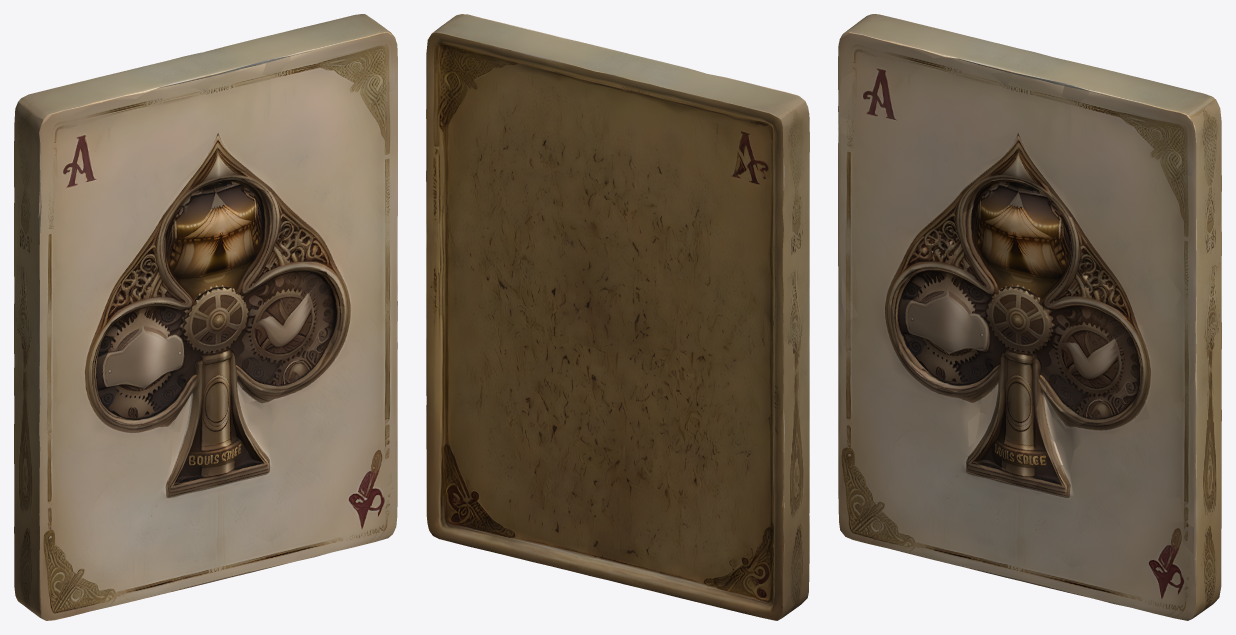
Rendered from Spade.fbx.
3 renders of one model, left to right at view 1: azimuth 30°, elevation 25°; view 2: azimuth 150°, elevation 25°; view 3: azimuth 330°, elevation 25°, orthographic.
Parts seen in each view (by area): view 1: input; view 2: input; view 3: input.
Part boxes in pixels (box(x1,y1,x2,y2)): input: box(14, 14, 397, 620); input: box(426, 14, 809, 620); input: box(838, 14, 1221, 620).
Size of the model in its own units: 73.93 by 99.97 by 10.45.
Materials: 1 (1 with a texture image).
